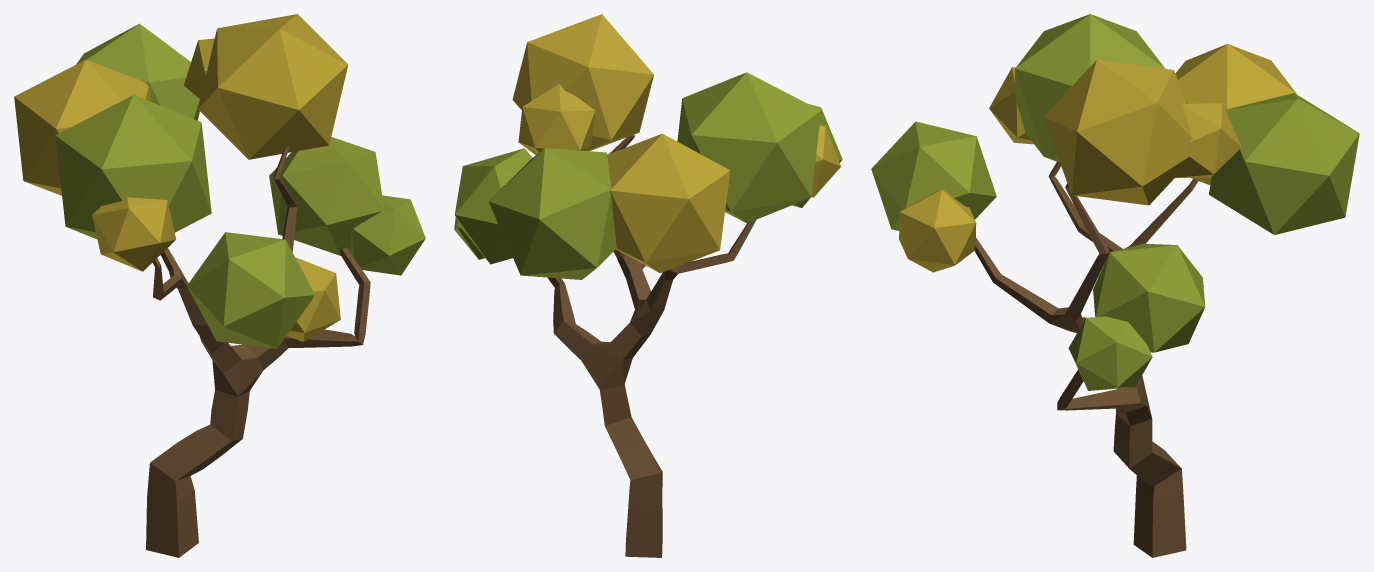
File: ico_tree_yellow2.glb
3 renders of one model, left to right at view 1: azimuth 30°, elevation 25°; view 2: azimuth 150°, elevation 25°; view 3: azimuth 270°, elevation 25°, orthographic. The views are drawn at different scales.
Visible parts, largest first — view 1: Icosphere.051, Cube.012, Icosphere.049, Icosphere.048, Icosphere.050, Icosphere.052, Icosphere.057, Icosphere.055, Icosphere.054, Icosphere.053, Icosphere.056; view 2: Icosphere.049, Cube.012, Icosphere.052, Icosphere.057, Icosphere.051, Icosphere.050, Icosphere.056, Icosphere.055; view 3: Icosphere.051, Icosphere.057, Cube.012, Icosphere.050, Icosphere.049, Icosphere.048, Icosphere.052, Icosphere.053, Icosphere.054, Icosphere.056, Icosphere.055.
Boxes of the visible parts, <box> form: Icosphere.051: <box>198,14,348,159</box>; Cube.012: <box>146,147,370,557</box>; Icosphere.049: <box>55,95,211,239</box>; Icosphere.048: <box>187,232,314,348</box>; Icosphere.050: <box>269,137,383,255</box>; Icosphere.052: <box>14,59,151,195</box>; Icosphere.057: <box>76,23,199,120</box>; Icosphere.055: <box>92,197,176,271</box>; Icosphere.054: <box>348,195,425,275</box>; Icosphere.053: <box>286,258,340,341</box>; Icosphere.056: <box>184,38,214,99</box>; Icosphere.049: <box>677,72,820,223</box>; Cube.012: <box>548,134,756,557</box>; Icosphere.052: <box>607,133,730,273</box>; Icosphere.057: <box>488,148,616,279</box>; Icosphere.051: <box>512,14,653,151</box>; Icosphere.050: <box>454,148,532,264</box>; Icosphere.056: <box>518,84,595,154</box>; Icosphere.055: <box>811,125,840,197</box>; Icosphere.051: <box>1043,60,1192,205</box>; Icosphere.057: <box>1209,93,1359,234</box>; Cube.012: <box>974,162,1198,557</box>; Icosphere.050: <box>1093,243,1205,352</box>; Icosphere.049: <box>1015,14,1164,162</box>; Icosphere.048: <box>871,121,996,230</box>; Icosphere.052: <box>1175,44,1296,184</box>; Icosphere.053: <box>899,189,976,272</box>; Icosphere.054: <box>1068,316,1152,390</box>; Icosphere.056: <box>1175,103,1241,177</box>; Icosphere.055: <box>989,67,1033,144</box>.
Bounding box in the file's own units: 8.35 × 11.5 × 9.69.
